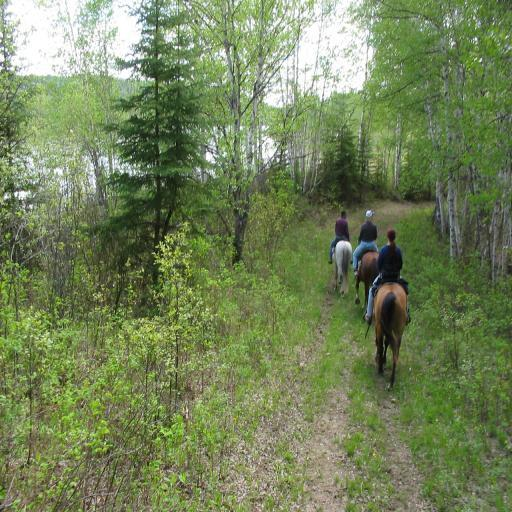Horse: (372, 282, 406, 390), (355, 250, 381, 310), (332, 238, 353, 297)
